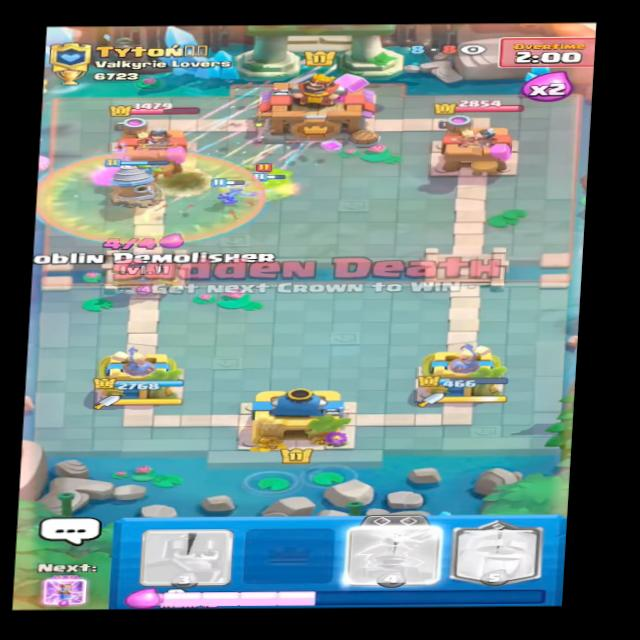arrows: (196, 78, 327, 160)
